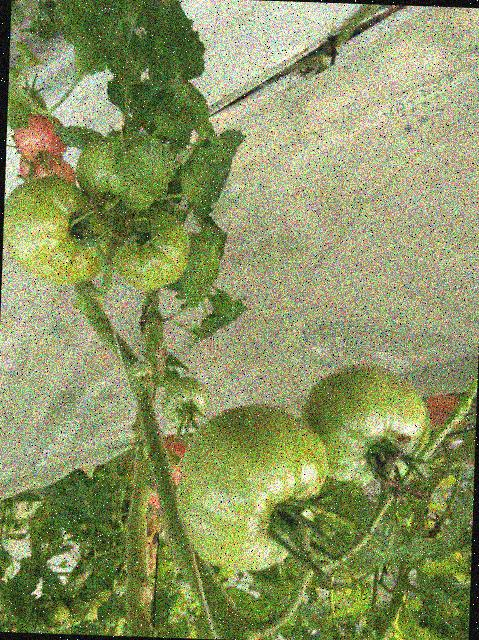b_fully_ripened: (12, 113, 68, 163), (19, 154, 43, 182)
b_green: (173, 400, 330, 575), (299, 360, 434, 486), (1, 173, 113, 286), (106, 206, 192, 293), (74, 134, 160, 218), (161, 376, 209, 426), (42, 601, 71, 630), (66, 597, 88, 625), (0, 579, 8, 613)
b_half_ripened: (424, 393, 466, 436), (33, 157, 77, 185)
